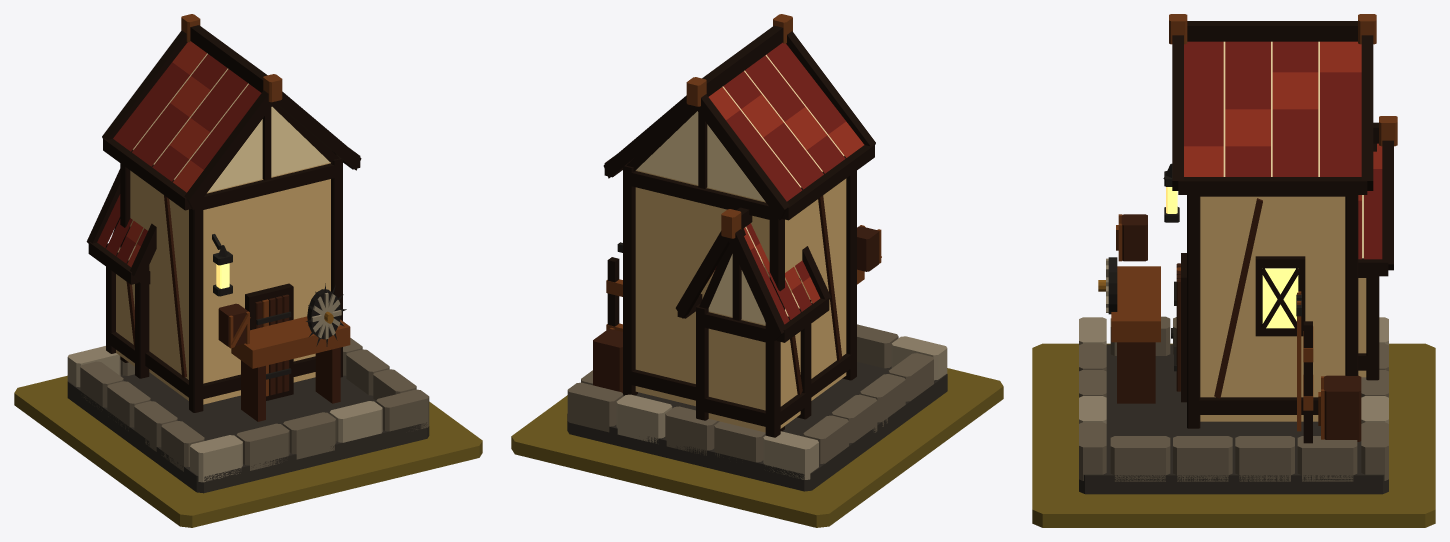
Rendered from workshop_t5.glb.
3 renders of one model, left to right at view 1: azimuth 30°, elevation 25°; view 2: azimuth 150°, elevation 25°; view 3: azimuth 270°, elevation 25°, orthographic. The views are drawn at different scales.
Parts seen in each view (by area): view 1: MMR | workshop | T05 Architecture.001, MMR | workshop | Tier 05 Ground.001; view 2: MMR | workshop | T05 Architecture.001, MMR | workshop | Tier 05 Ground.001; view 3: MMR | workshop | T05 Architecture.001, MMR | workshop | Tier 05 Ground.001.
Part boxes in pixels (x1,y1,x2,y2): MMR | workshop | T05 Architecture.001: (67, 14, 429, 493); MMR | workshop | Tier 05 Ground.001: (14, 375, 482, 527); MMR | workshop | T05 Architecture.001: (567, 14, 947, 491); MMR | workshop | Tier 05 Ground.001: (511, 368, 1003, 527); MMR | workshop | T05 Architecture.001: (1079, 14, 1397, 494); MMR | workshop | Tier 05 Ground.001: (1032, 343, 1435, 527).
Bounding box in the file's own units: 1.3 × 1.51 × 1.3.
2 materials, 1 textured.
